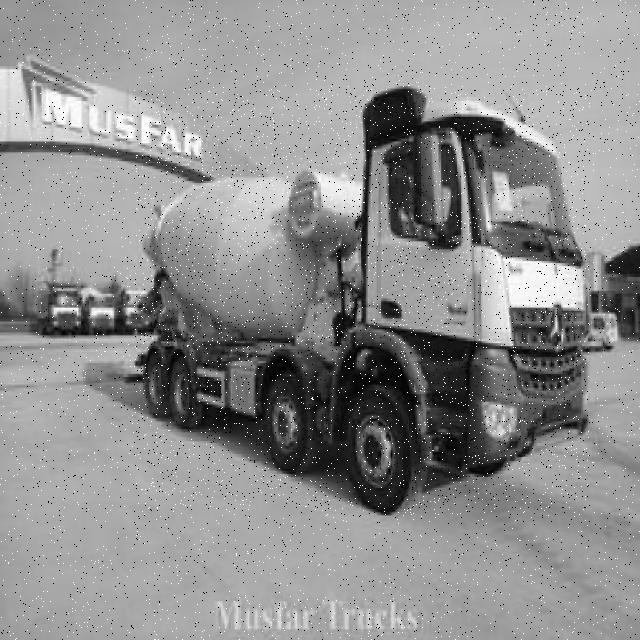Concrete Mixer: (134, 88, 590, 518)
